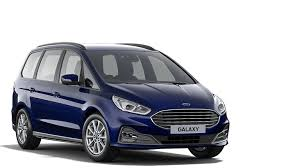Ford: (14, 41, 228, 159)
